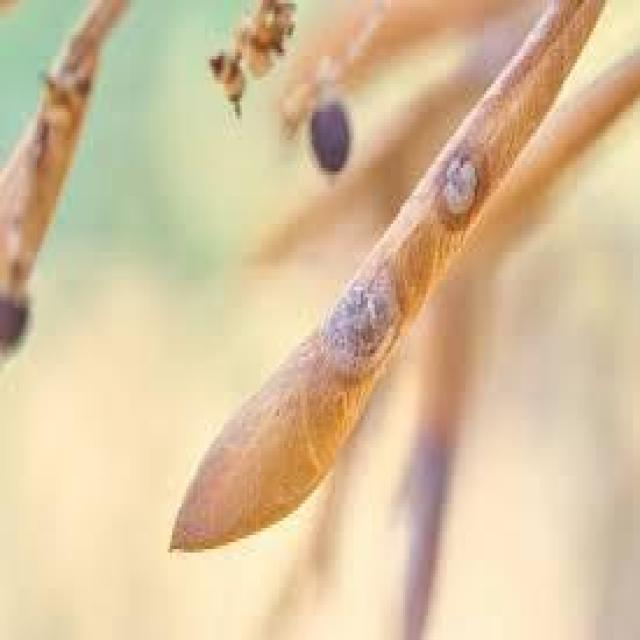OlivePeacockSpot: (170, 0, 600, 546)
